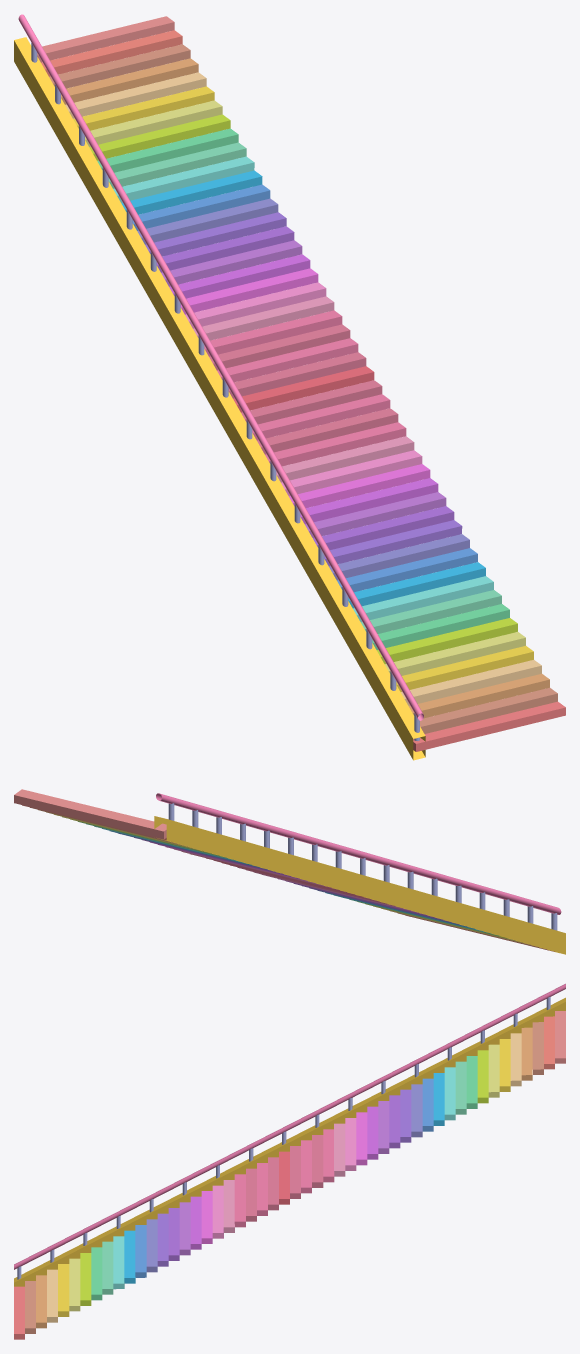
The model's file is Stairs.fbx.
3 views of the same model, one above another, from view 1: azimuth 30°, elevation 25°; view 2: azimuth 150°, elevation 25°; view 3: azimuth 270°, elevation 25° (orthographic). The views are drawn at different scales.
Visible parts, largest first — view 1: Stairs; view 2: Stairs; view 3: Stairs.
Boxes of the visible parts, x1,y1,x2,y2 form: Stairs: (14,14,565,760); Stairs: (14,789,565,954); Stairs: (14,983,565,1339).
Bounding box in the file's own units: 2.46 × 6.96 × 11.15.
